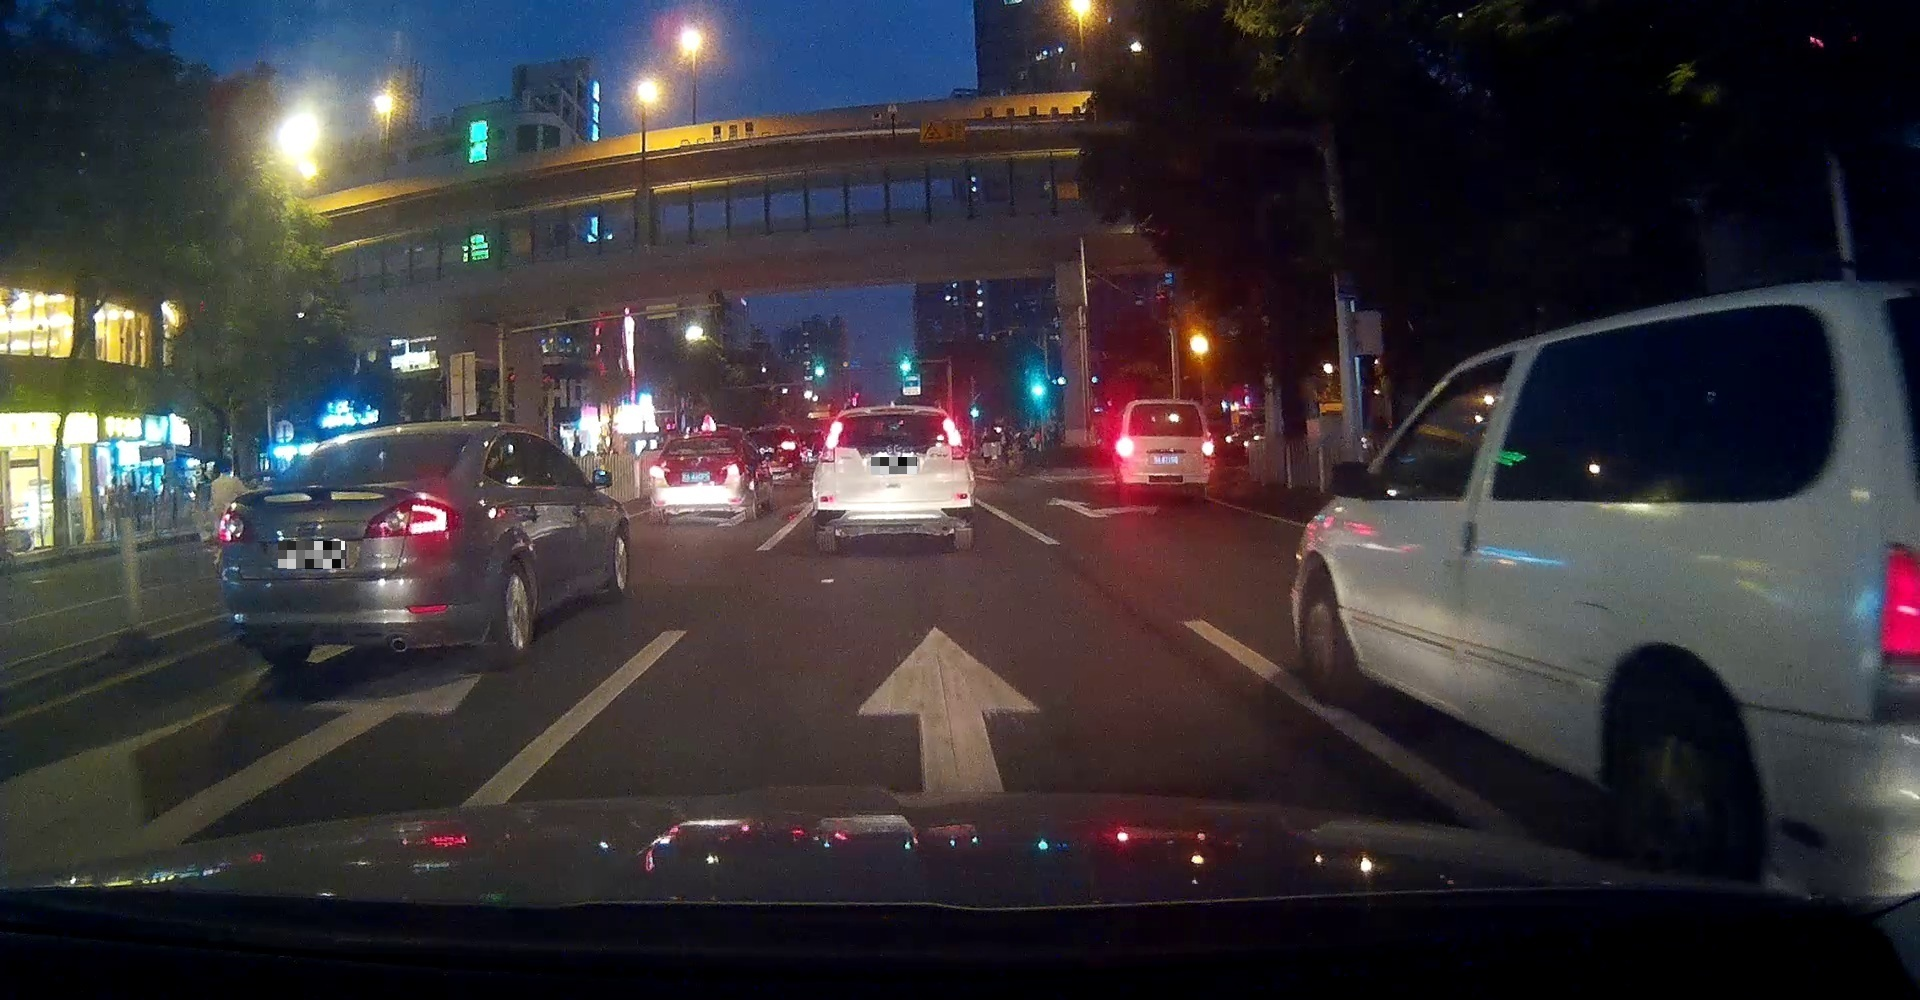L_light: (215, 505, 257, 544), (818, 421, 843, 463), (1115, 438, 1134, 458), (648, 464, 669, 478)
R_light: (361, 492, 461, 541), (941, 416, 965, 459), (717, 459, 743, 477), (1201, 442, 1214, 456)
T_light: (363, 435, 403, 442), (870, 409, 916, 412), (1156, 404, 1175, 406), (698, 437, 714, 439)
night-no: (215, 423, 483, 668), (811, 406, 975, 555), (1116, 398, 1214, 506), (648, 431, 745, 523)
plate_1: (278, 541, 345, 569)
plate_2: (871, 457, 917, 475)
